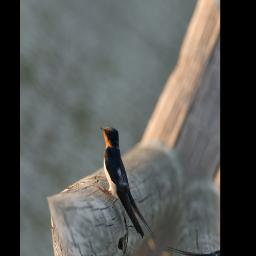Swallow: (74, 114, 182, 248)
